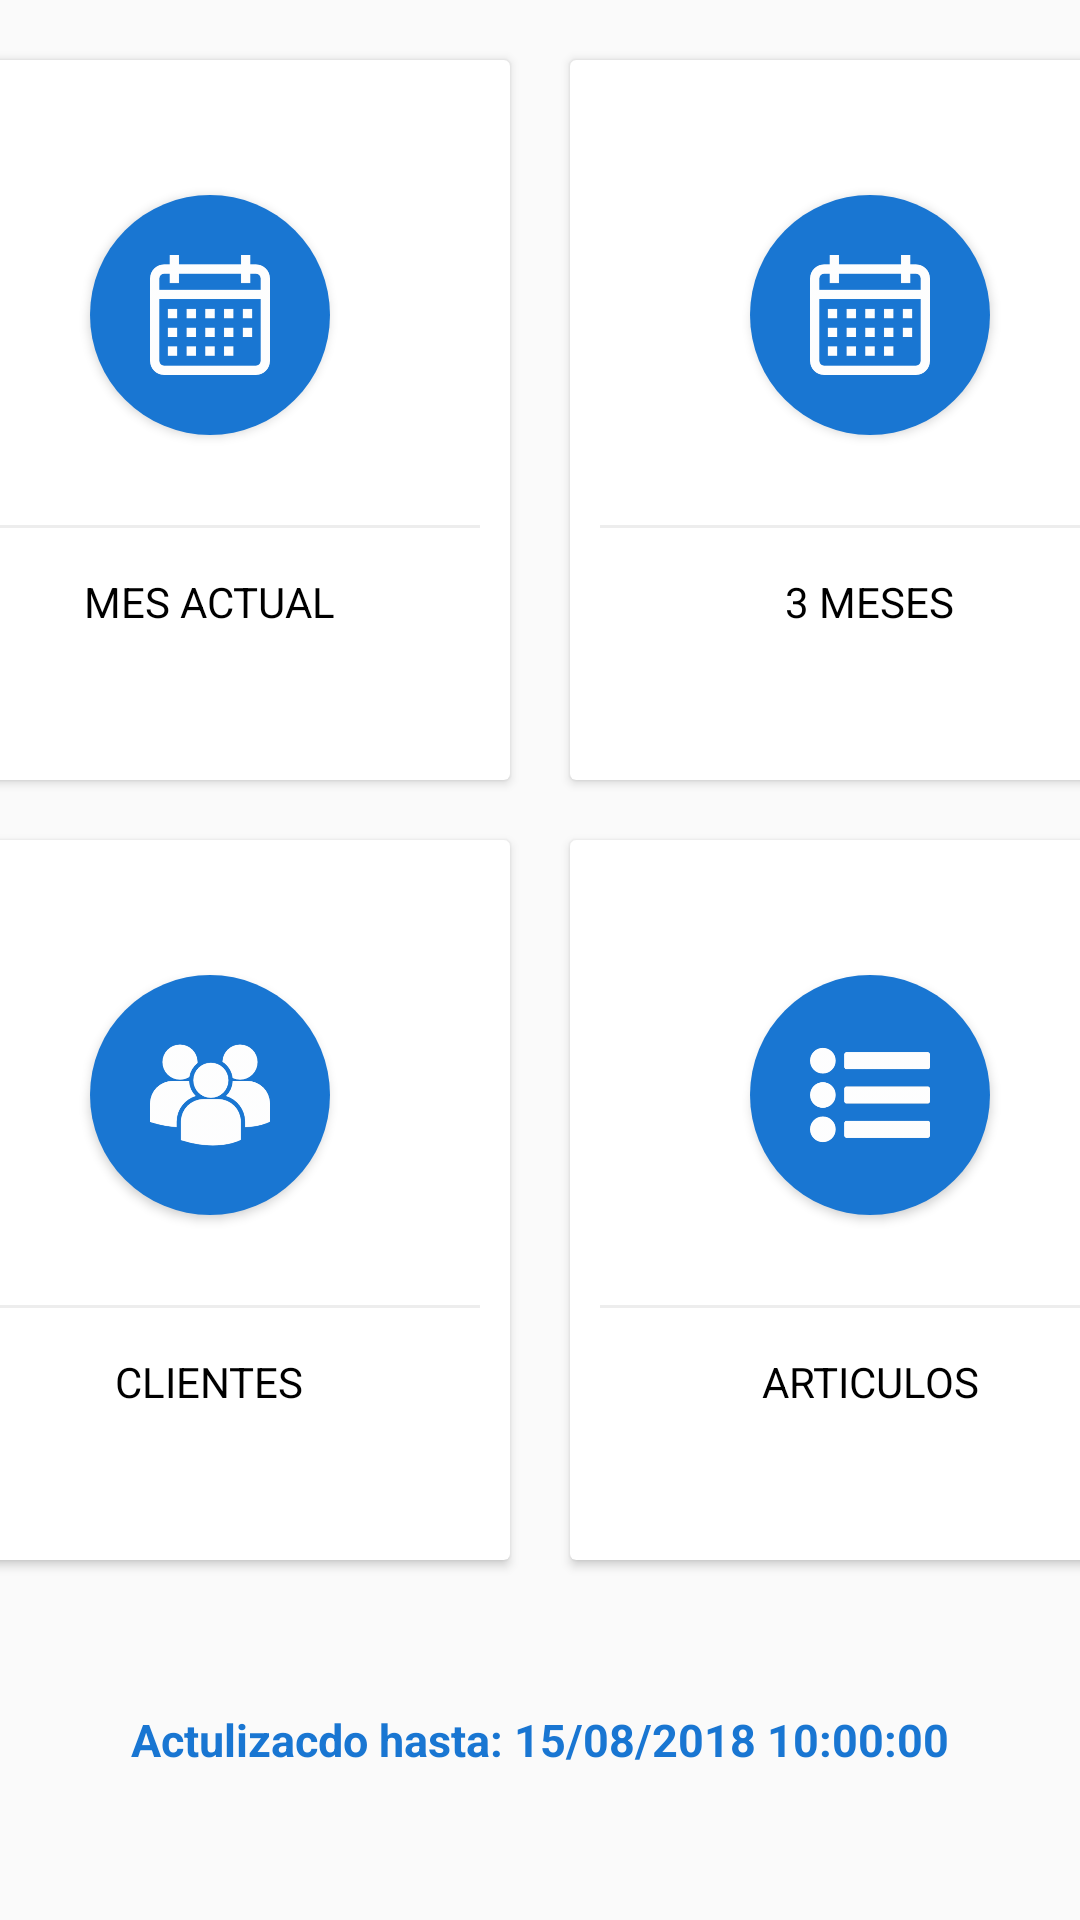

Where to tap for icons on this 1080 x 1920 app screen, as point (x, y):
dashboard calendar: point (210, 315), point (870, 315)
dashboard listado: point (870, 1095)
